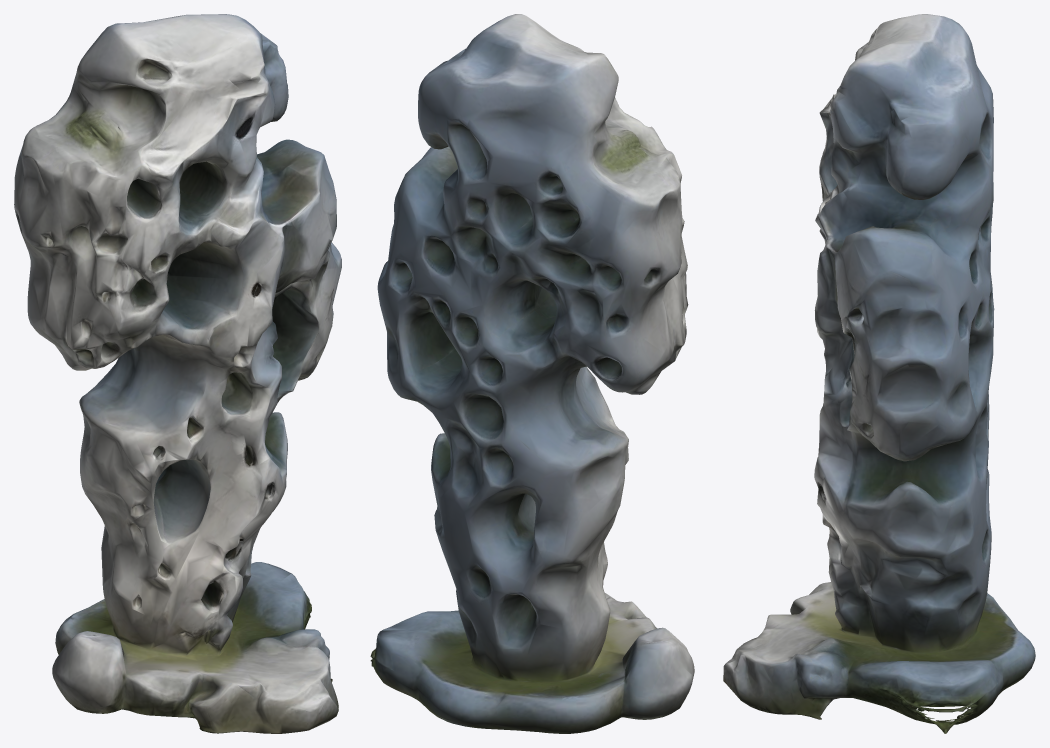
File: taihuRock.glb
The picture shows the model from 3 angles, left to right: view 1: azimuth 30°, elevation 25°; view 2: azimuth 150°, elevation 25°; view 3: azimuth 270°, elevation 25°; orthographic projection. The views are drawn at different scales.
Parts seen in each view (by area): view 1: node_0; view 2: node_0; view 3: node_0.
Part boxes in pixels (bbox=[...]): node_0: bbox=[14, 14, 341, 733]; node_0: bbox=[370, 14, 694, 733]; node_0: bbox=[723, 14, 1035, 733].
Size of the model in its own units: 0.7128 by 1.5 by 0.6655.
1 material, 1 textured.
